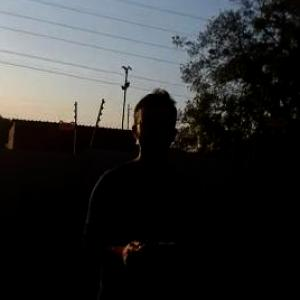follow: (75, 85, 206, 299)
